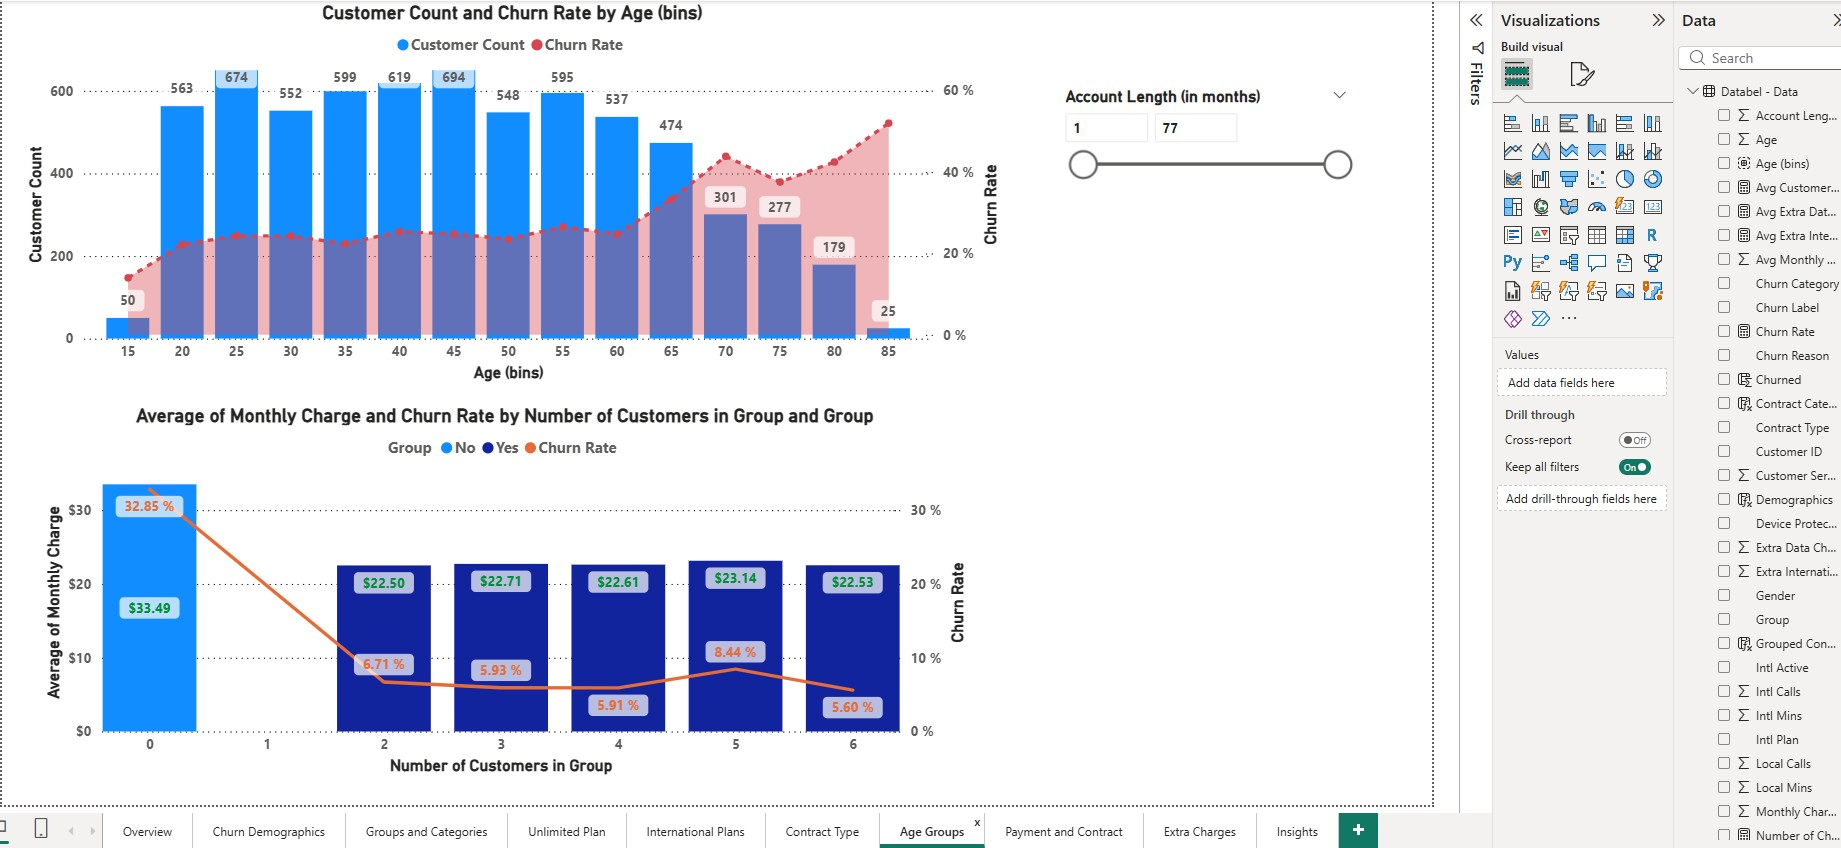

The dashboard page shown, as its layout file describes it:
{"tool":"powerbi","page":{"name":"Age Groups","canvas":[1280,720],"ordinal":6},"visuals":[{"type":"lineStackedColumnComboChart","fields":{"Category":["Databel - Data.Age (bins)"],"Y":["Databel - Data.Number of costumers"],"Y2":["Databel - Data.Churn Rate"]},"box":[16.6,0,880,345.7],"z":0},{"type":"slicer","fields":{"Values":["Databel - Data.Account Length (in months)"]},"box":[939.4,72.5,277.6,226.6],"z":1000},{"type":"lineStackedColumnComboChart","fields":{"Category":["Databel - Data.Number of Customers in Group"],"Y":["Avg(Databel - Data.Monthly Charge)"],"Series":["Databel - Data.Group"],"Y2":["Databel - Data.Churn Rate"]},"box":[33.2,360.8,834.7,336.6],"z":2000}]}

Visuals, with their boxes on the page's 1280x720 design canvas (x1, y1, x2, y2). These are canvas units, not pixel positions in the 1841x848 screenshot, which may show the page scaled, cropped or inside an application window:
lineStackedColumnComboChart - Databel - Data.Age (bins) x Databel - Data.Number of costumers: 17/0/897/346
slicer - Databel - Data.Account Length (in months): 939/72/1217/299
lineStackedColumnComboChart - Databel - Data.Number of Customers in Group x Avg(Databel - Data.Monthly Charge): 33/361/868/697
